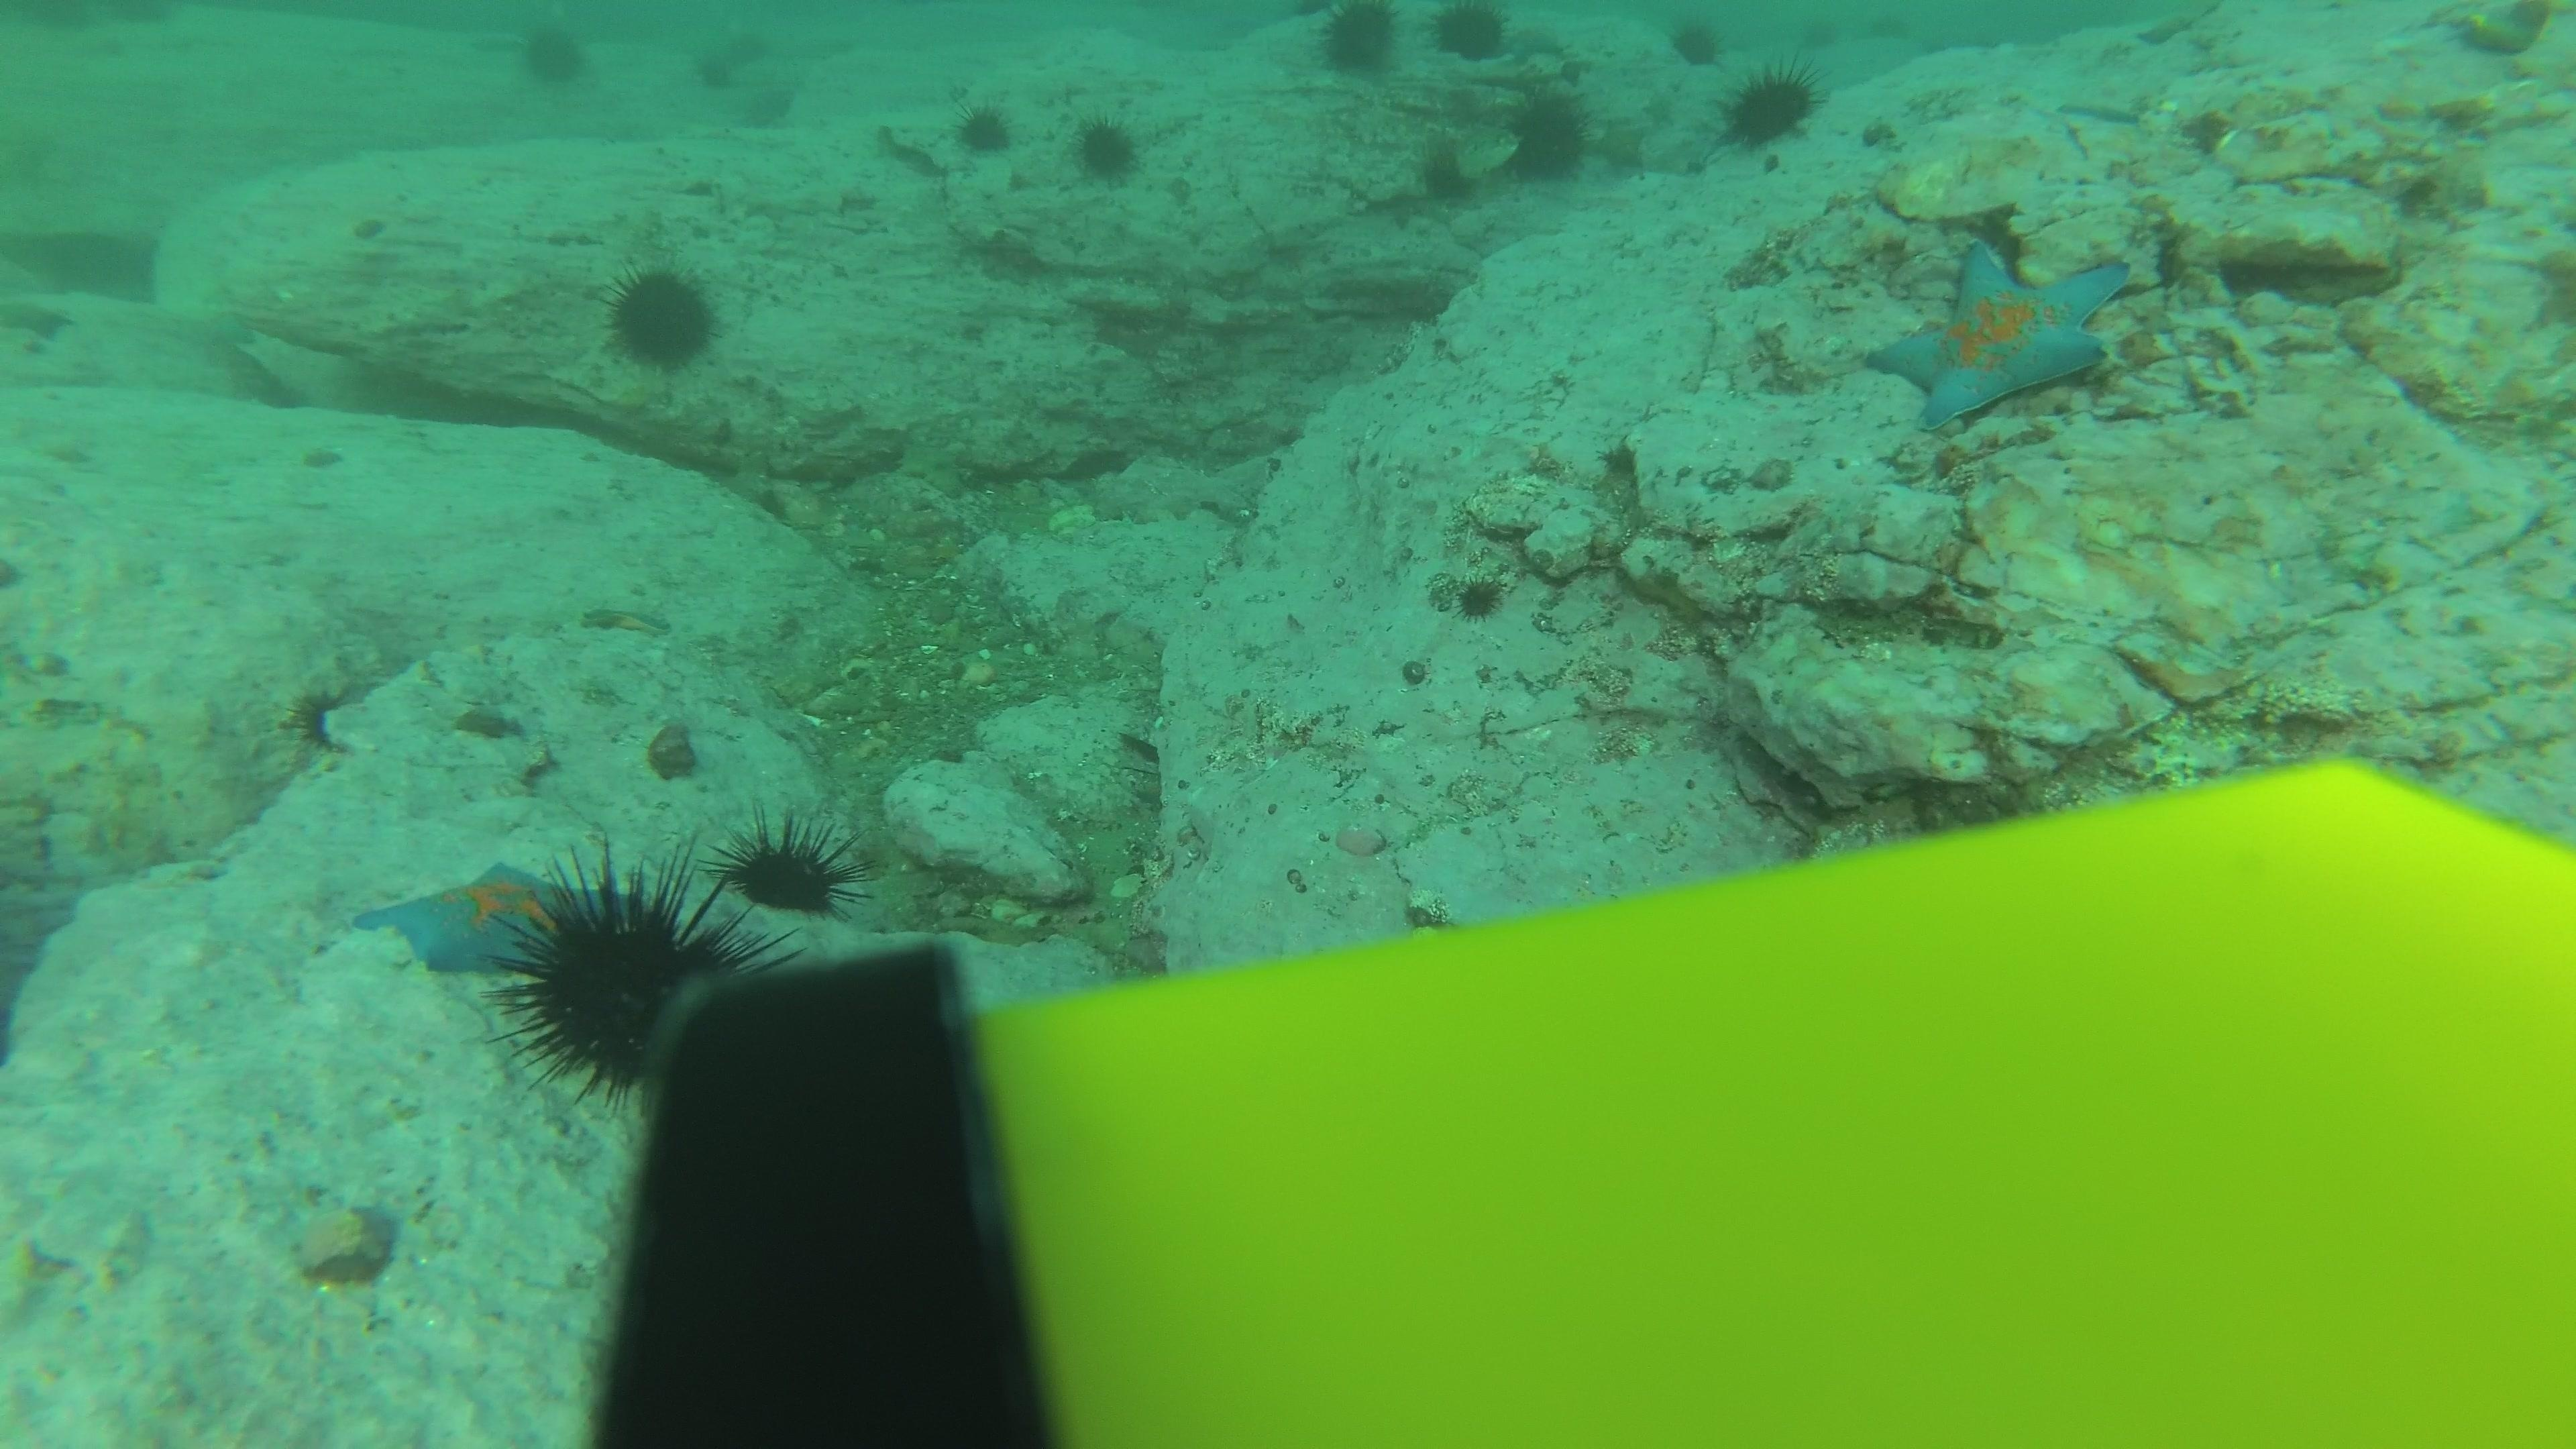echinus: (494, 851, 763, 1100), (718, 814, 860, 924), (602, 260, 722, 373), (1718, 60, 1824, 154), (1500, 87, 1596, 186), (1311, 2, 1401, 81), (669, 30, 750, 106), (515, 21, 598, 96), (1070, 110, 1146, 186), (1428, 2, 1513, 67), (1414, 140, 1477, 205), (1879, 0, 1943, 65), (1787, 7, 1849, 73), (1444, 571, 1506, 637), (952, 97, 1016, 159), (725, 18, 791, 76), (1667, 16, 1725, 69)
starfish: (1861, 234, 2139, 432), (1859, 234, 2137, 430), (347, 847, 649, 982), (2123, 0, 2233, 50), (2049, 81, 2160, 129), (577, 591, 674, 640), (4, 292, 76, 350), (874, 120, 947, 177), (1592, 115, 1649, 179)
